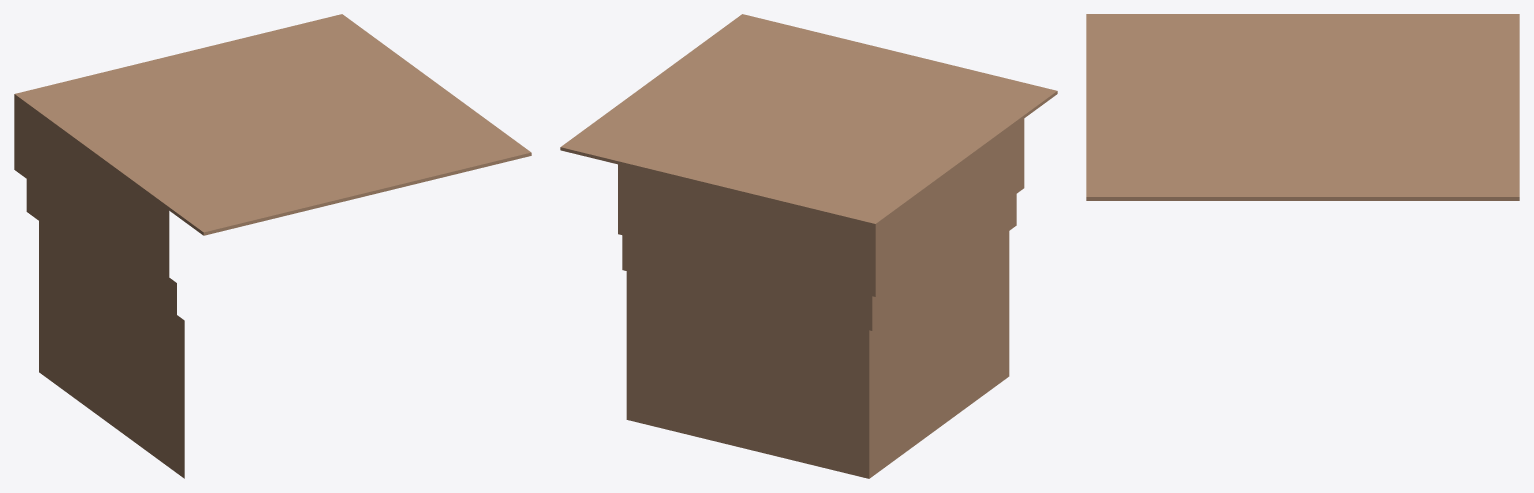
File: env_block_brick_corner_column_cap.glb
3 views of the same model, side by side, from view 1: azimuth 30°, elevation 25°; view 2: azimuth 150°, elevation 25°; view 3: azimuth 270°, elevation 25° (orthographic). The views are drawn at different scales.
Visible parts, largest first — view 1: Brick_CornerColumn_Cap.gltf; view 2: Brick_CornerColumn_Cap.gltf; view 3: Brick_CornerColumn_Cap.gltf.
Boxes of the visible parts, bbox=[...] form: Brick_CornerColumn_Cap.gltf: bbox=[14, 14, 531, 478]; Brick_CornerColumn_Cap.gltf: bbox=[560, 14, 1057, 478]; Brick_CornerColumn_Cap.gltf: bbox=[1086, 14, 1519, 200].
Bounding box in the file's own units: 1.26 × 1.01 × 1.26.
